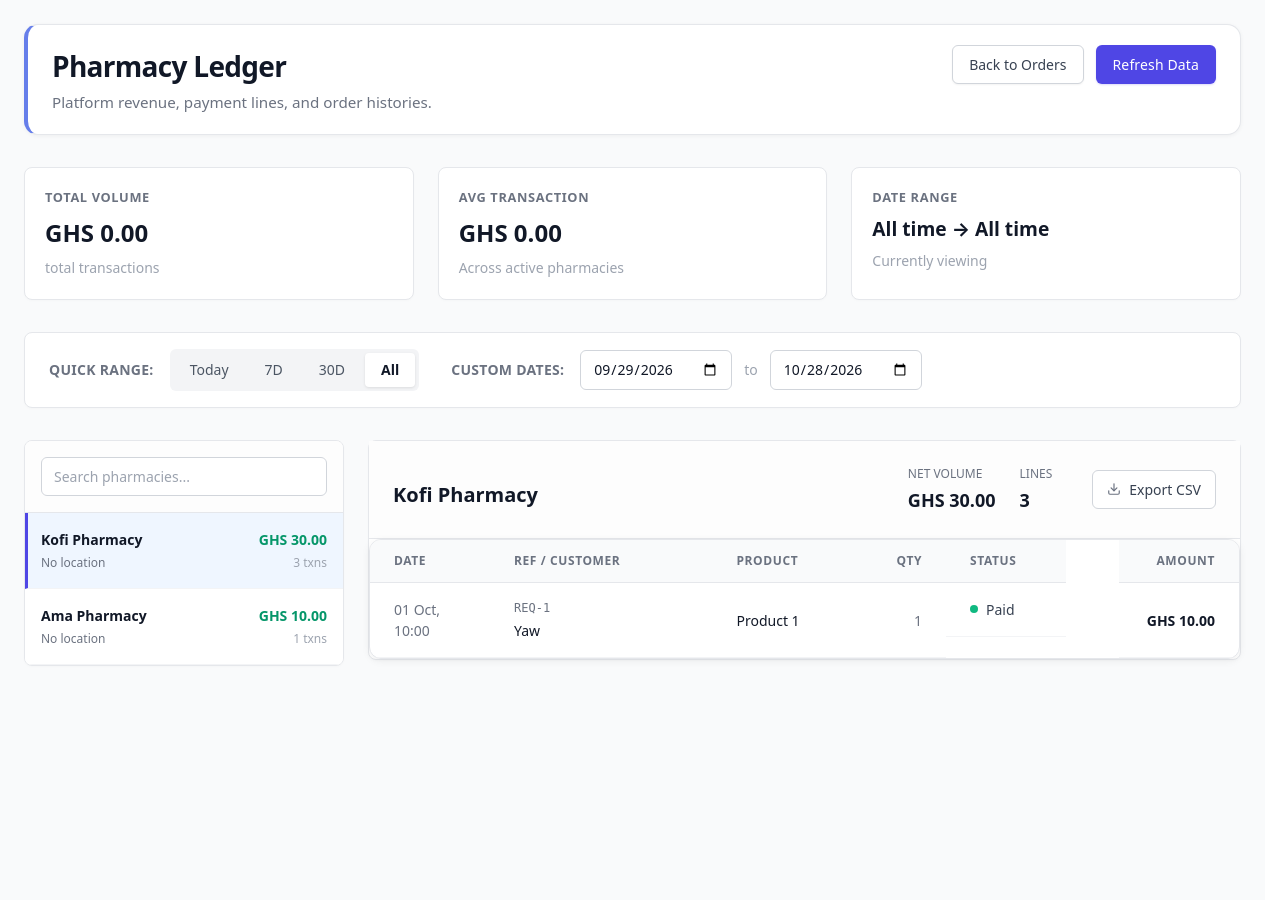
it: admin pharmacy ledger: export › says so when the export fails, and downloads nothing
Click the button "Export CSV" at (1154, 489), box [1092,470,1216,509]
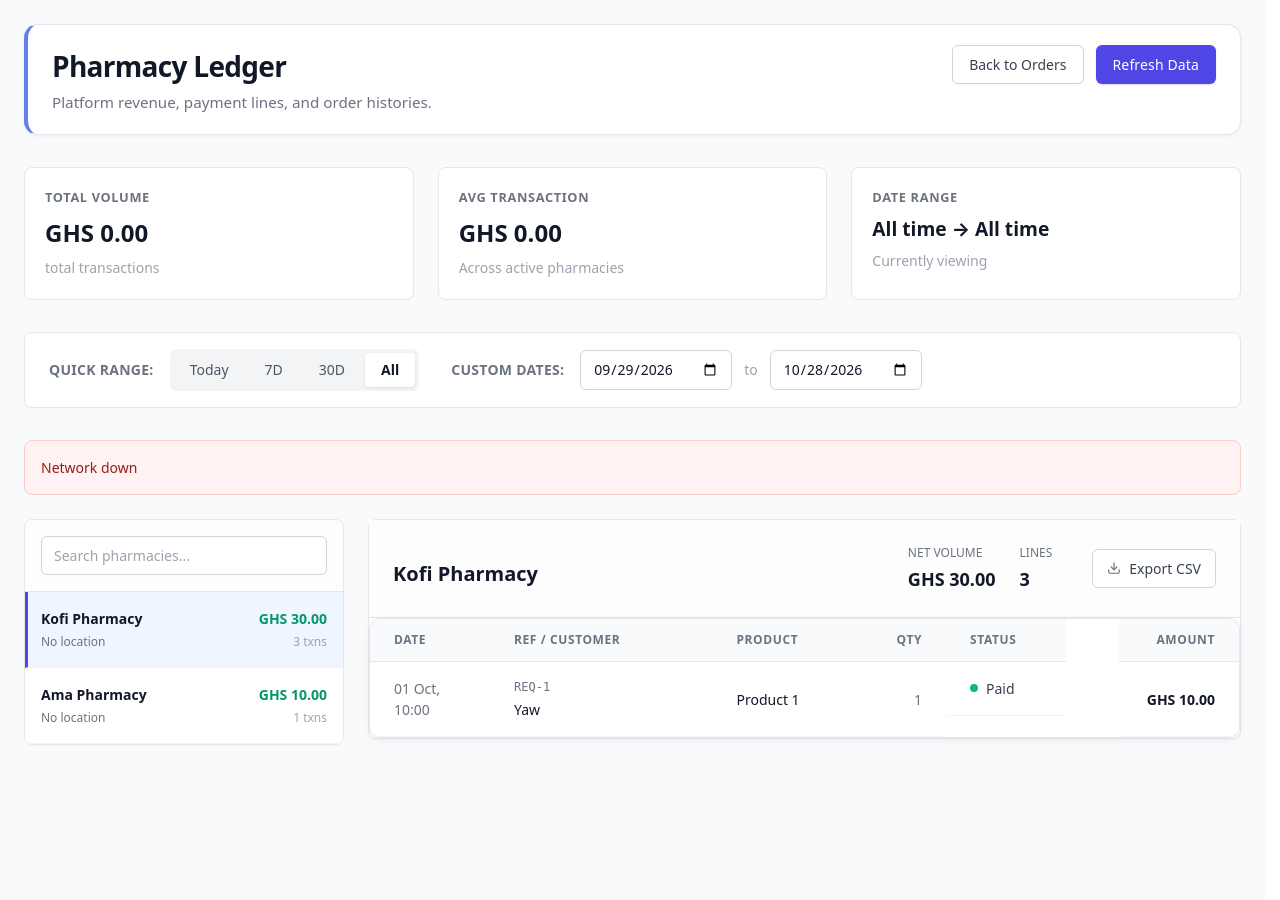
Now the text with class "ledger-error" reads "Network down", box [41,458,137,477]
